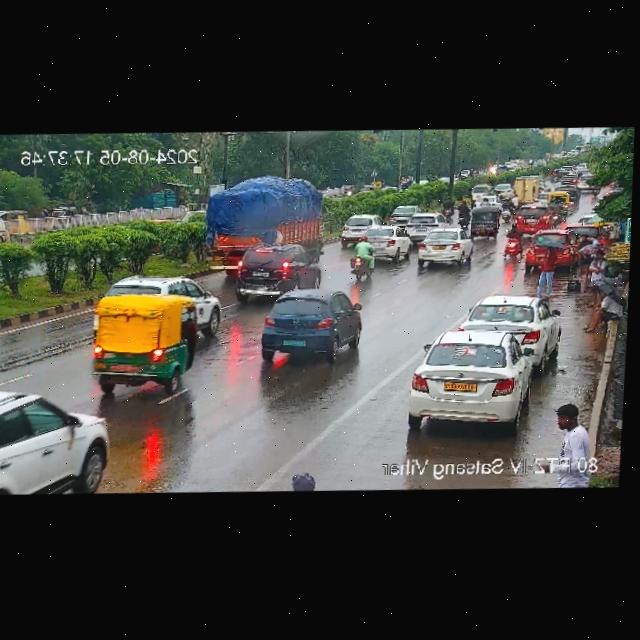car: (88, 288, 213, 403), (404, 330, 534, 430), (0, 384, 114, 497), (254, 286, 359, 366), (464, 292, 558, 356), (90, 272, 221, 313), (234, 243, 323, 303), (413, 227, 474, 269), (522, 227, 576, 272), (363, 224, 416, 261), (339, 212, 385, 244), (403, 211, 451, 241), (465, 205, 501, 240), (516, 204, 554, 234), (564, 213, 599, 235), (389, 204, 421, 225), (469, 184, 496, 201), (546, 191, 572, 206), (553, 171, 577, 184), (494, 185, 513, 196)
motorcycle: (343, 237, 377, 281), (498, 227, 520, 259), (457, 200, 472, 225), (441, 195, 455, 217), (501, 197, 512, 222), (552, 199, 562, 224), (512, 192, 518, 214)
person: (546, 394, 589, 456), (580, 286, 626, 334), (276, 460, 324, 491), (537, 246, 557, 291), (577, 233, 593, 274), (589, 251, 606, 277), (592, 233, 605, 245), (601, 231, 612, 242)
truck: (198, 172, 320, 266), (518, 175, 540, 201)
